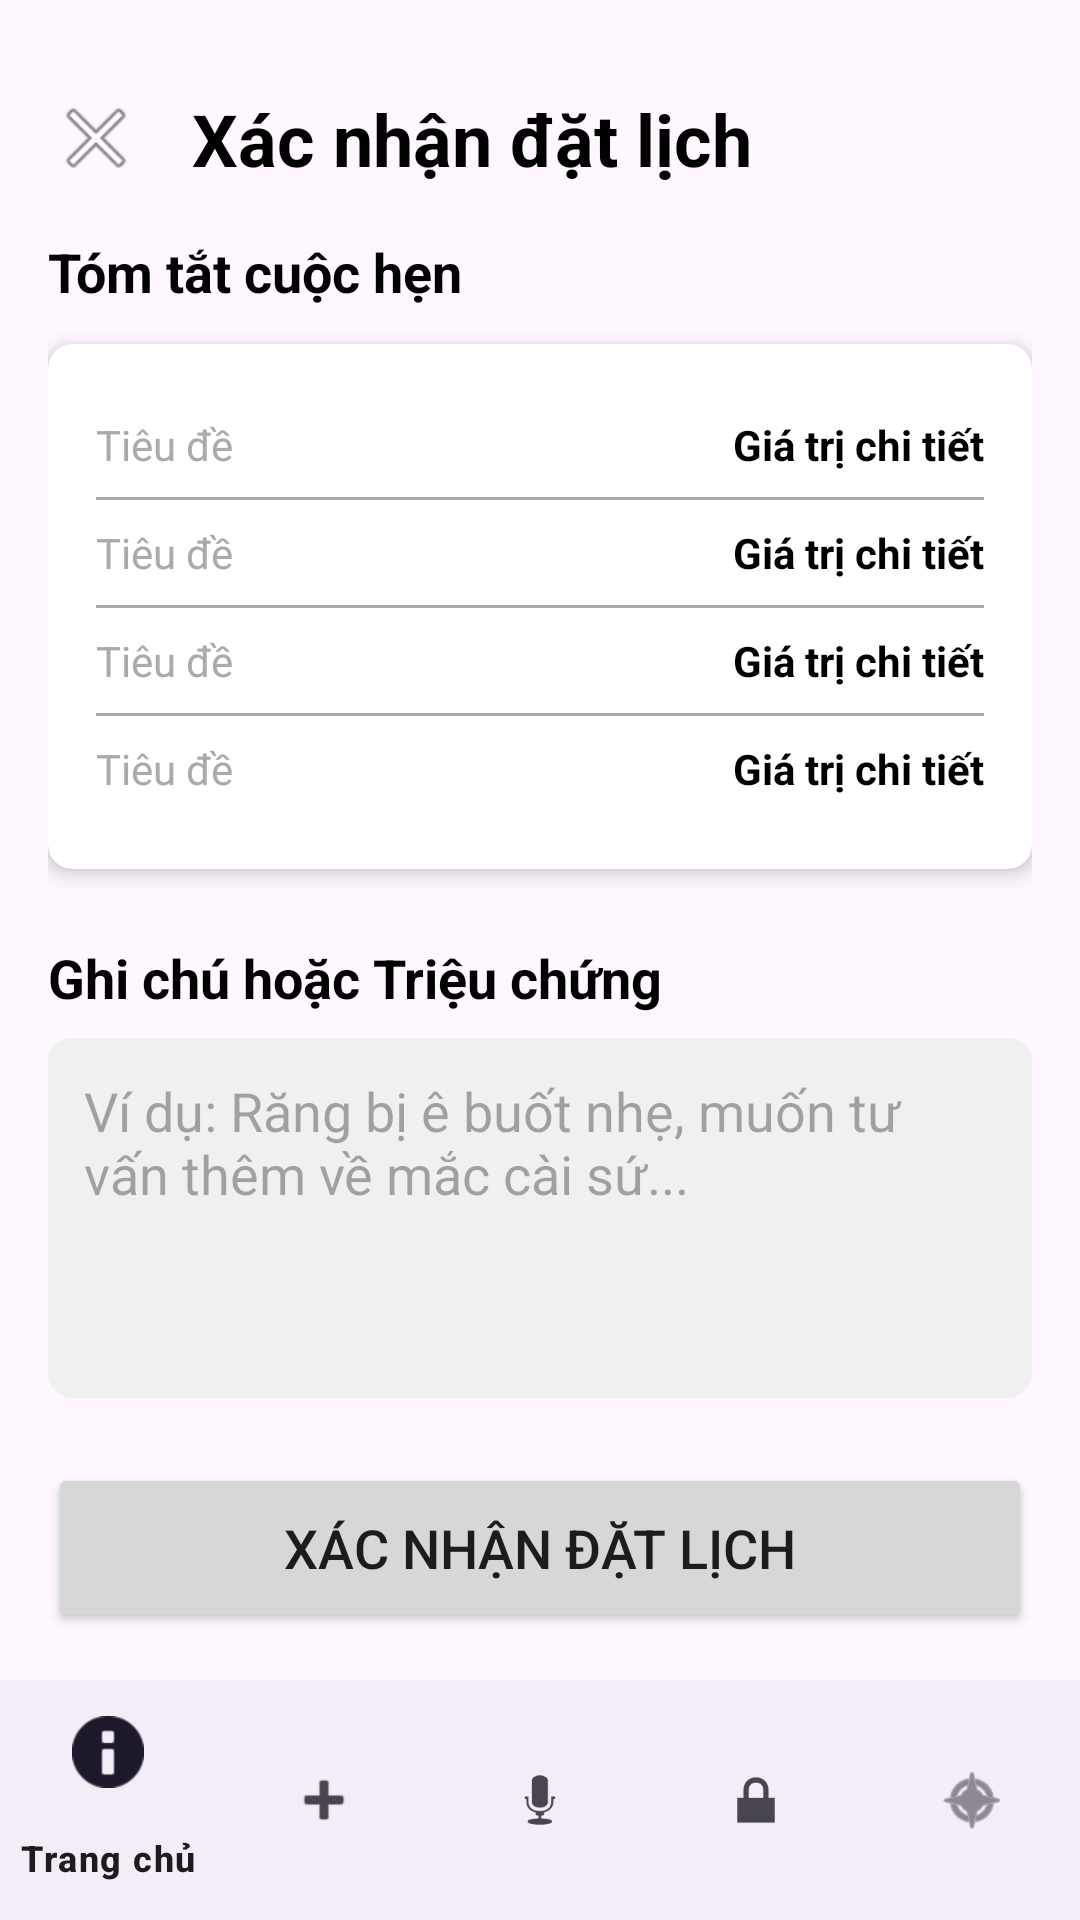

Locate icon controls on the screen. Image size 1080 × 1920, boxes as (x1,y1,x2,y2).
Quay lại: (66,108,126,168)
